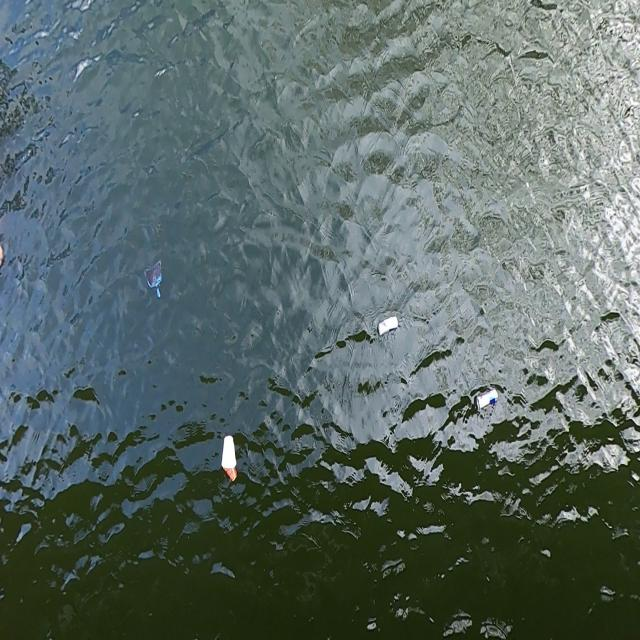Non plastique: (474, 384, 503, 416), (377, 313, 402, 338), (220, 435, 237, 470)
